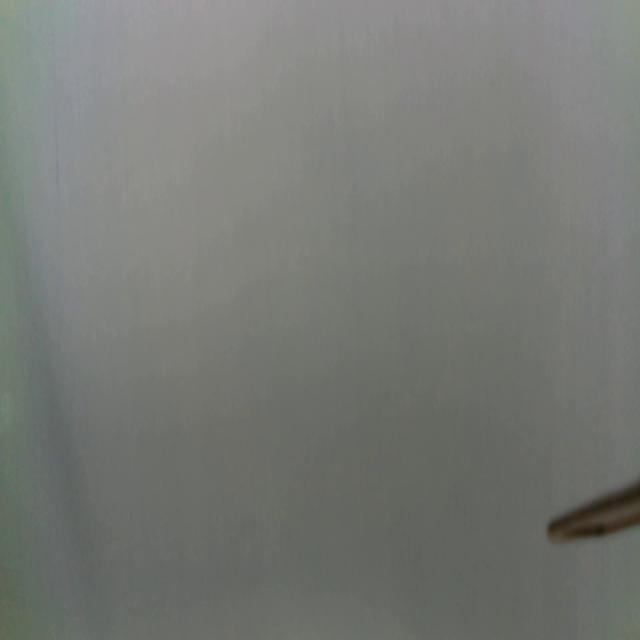crease: (50, 30, 65, 194)
